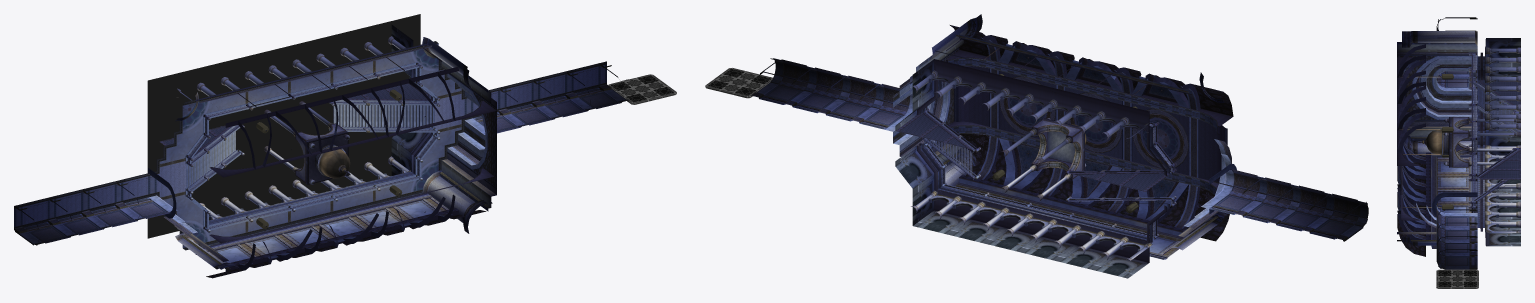
Rendered from NPRotatingRoomRight.gltf.
3 renders of one model, left to right at view 1: azimuth 30°, elevation 25°; view 2: azimuth 150°, elevation 25°; view 3: azimuth 270°, elevation 25°, orthographic. The views are drawn at different scales.
Visible parts, largest first — view 1: stg071_g26_Mesh_0000, stg071_o26_Mesh_0003, stg071_o26_Mesh_0029, stg071_o26_Mesh_0016, stg071_o26_Mesh_0076, stg071_o26_Mesh_0048, stg071_o26_Mesh_0009, stg071_o26_Mesh_0071, stg071_o26_Mesh_0044, stg071_o26_Mesh_0079, stg071_o26_Mesh_0090, stg071_o26_Mesh_0025 (+37 smaller); view 2: stg071_o26_Mesh_0005, stg071_o26_Mesh_0069, stg071_o26_Mesh_0048, stg071_o26_Mesh_0041, stg071_o26_Mesh_0009, stg071_o26_Mesh_0027, stg071_o26_Mesh_0075, stg071_o26_Mesh_0025, stg071_o26_Mesh_0043, stg071_o26_Mesh_0035, stg071_o26_Mesh_0019, stg071_o26_Mesh_0063 (+38 smaller); view 3: stg071_o26_Mesh_0048, stg071_o26_Mesh_0069, stg071_o26_Mesh_0036, stg071_o26_Mesh_0025, stg071_o26_Mesh_0005, stg071_o26_Mesh_0049, stg071_o26_Mesh_0032, stg071_o26_Mesh_0011, stg071_o26_Mesh_0079, stg071_o26_Mesh_0030, stg071_o26_Mesh_0026, stg071_o26_Mesh_0090 (+51 smaller).
Boxes of the visible parts, x1,y1,x2,y2 form: stg071_g26_Mesh_0000: (147,14,420,238); stg071_o26_Mesh_0003: (16,50,604,240); stg071_o26_Mesh_0029: (22,66,598,224); stg071_o26_Mesh_0016: (14,41,606,250); stg071_o26_Mesh_0076: (186,104,434,187); stg071_o26_Mesh_0048: (238,72,455,270); stg071_o26_Mesh_0009: (225,67,458,271); stg071_o26_Mesh_0071: (162,62,435,229); stg071_o26_Mesh_0044: (187,63,438,230); stg071_o26_Mesh_0079: (32,93,613,241); stg071_o26_Mesh_0090: (218,202,433,262); stg071_o26_Mesh_0025: (180,39,408,219); stg071_o26_Mesh_0005: (896,59,1169,262); stg071_o26_Mesh_0069: (895,59,1148,278); stg071_o26_Mesh_0048: (977,35,1200,229); stg071_o26_Mesh_0041: (950,25,1233,241); stg071_o26_Mesh_0009: (949,37,1217,234); stg071_o26_Mesh_0027: (958,66,1224,182); stg071_o26_Mesh_0075: (946,34,1219,259); stg071_o26_Mesh_0025: (916,74,1147,259); stg071_o26_Mesh_0043: (783,63,1359,215); stg071_o26_Mesh_0035: (935,41,1182,257); stg071_o26_Mesh_0019: (1007,97,1180,160); stg071_o26_Mesh_0063: (991,69,1196,177); stg071_o26_Mesh_0048: (1397,44,1425,241); stg071_o26_Mesh_0069: (1486,38,1520,246); stg071_o26_Mesh_0036: (1412,56,1477,226); stg071_o26_Mesh_0025: (1487,48,1516,232); stg071_o26_Mesh_0005: (1477,39,1520,245); stg071_o26_Mesh_0049: (1397,42,1477,140); stg071_o26_Mesh_0032: (1485,47,1518,232); stg071_o26_Mesh_0011: (1481,81,1519,178); stg071_o26_Mesh_0079: (1448,71,1466,265); stg071_o26_Mesh_0030: (1426,119,1513,165); stg071_o26_Mesh_0026: (1417,31,1474,42); stg071_o26_Mesh_0090: (1440,163,1465,212).
Bounding box in the file's own units: 221 × 54.05 × 45.61.
Materials: 25 (23 with a texture image).
